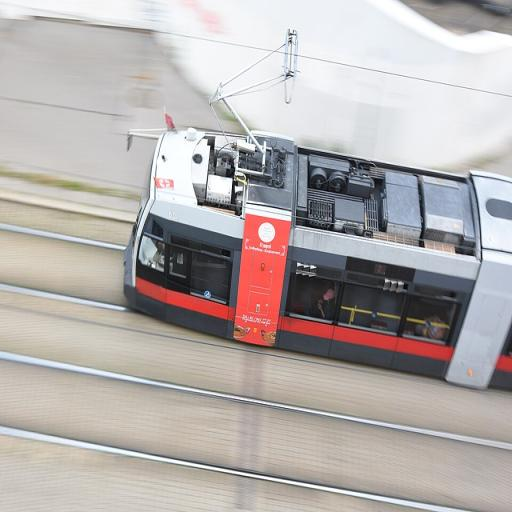ULF: (108, 110, 512, 394)
